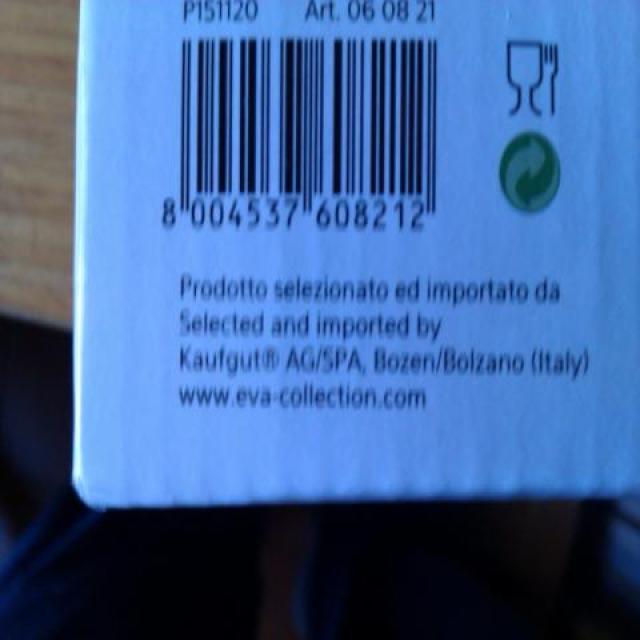Barcode: (146, 25, 466, 255)
